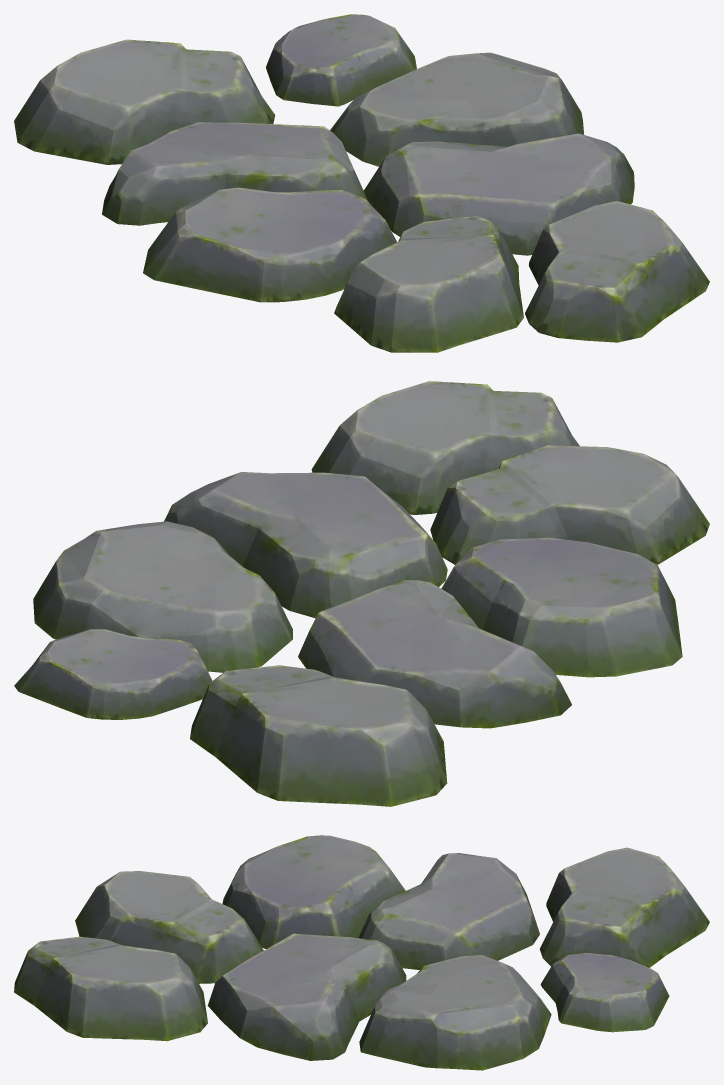
Rendered from rock-path-round-small-variant-2-transformed.glb.
3 views of the same model, one above another, from view 1: azimuth 30°, elevation 25°; view 2: azimuth 150°, elevation 25°; view 3: azimuth 270°, elevation 25° (orthographic). The views are drawn at different scales.
Parts seen in each view (by area): view 1: RockPath_Round_Small_1; view 2: RockPath_Round_Small_1; view 3: RockPath_Round_Small_1.
Part boxes in pixels (<box>): RockPath_Round_Small_1: <box>14,14,709,352</box>; RockPath_Round_Small_1: <box>14,381,709,806</box>; RockPath_Round_Small_1: <box>14,835,709,1070</box>.
Bounding box in the file's own units: 1.06 × 0.1128 × 1.48.
Materials: 1 (1 with a texture image).
